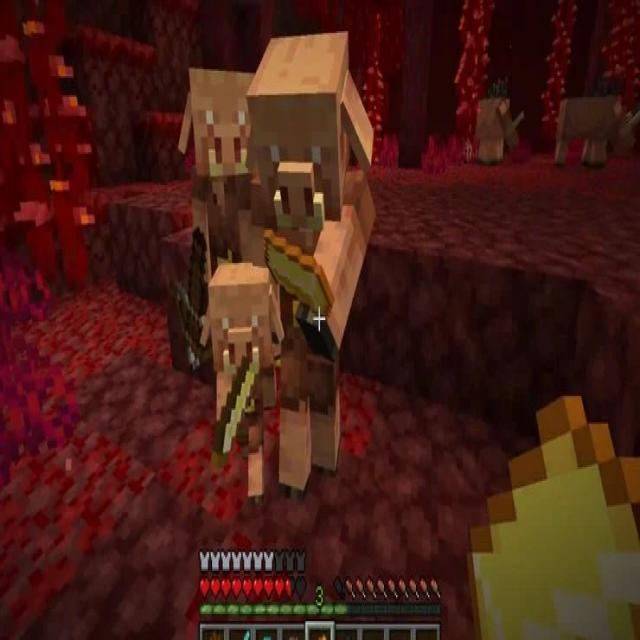Piglin: (249, 19, 375, 505), (176, 57, 279, 453), (204, 256, 282, 509)
